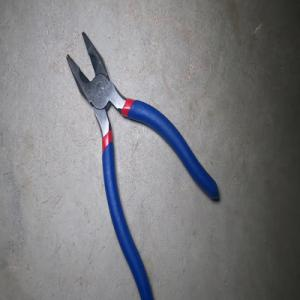Pliers: (66, 31, 219, 300)
